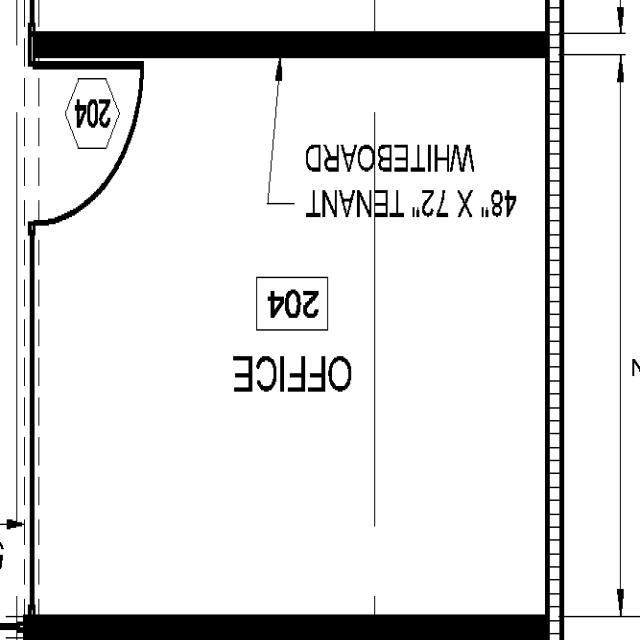Doors: (24, 60, 149, 230)
